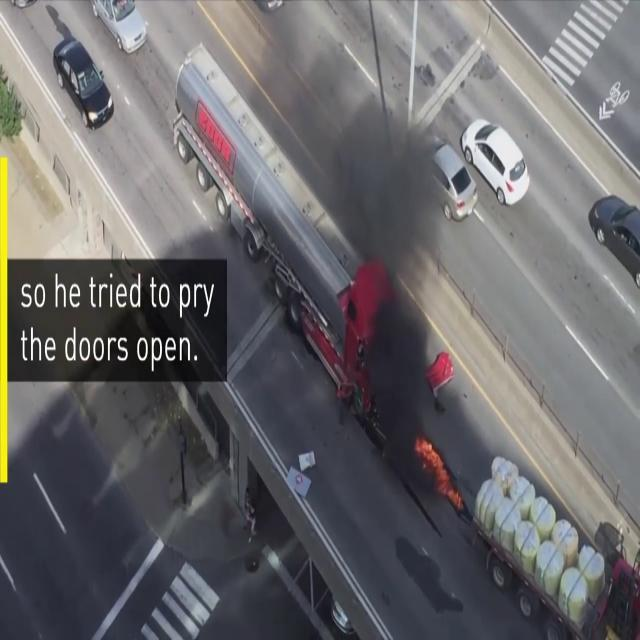Fire: (414, 436, 449, 498)
Smoke: (314, 25, 458, 489)
